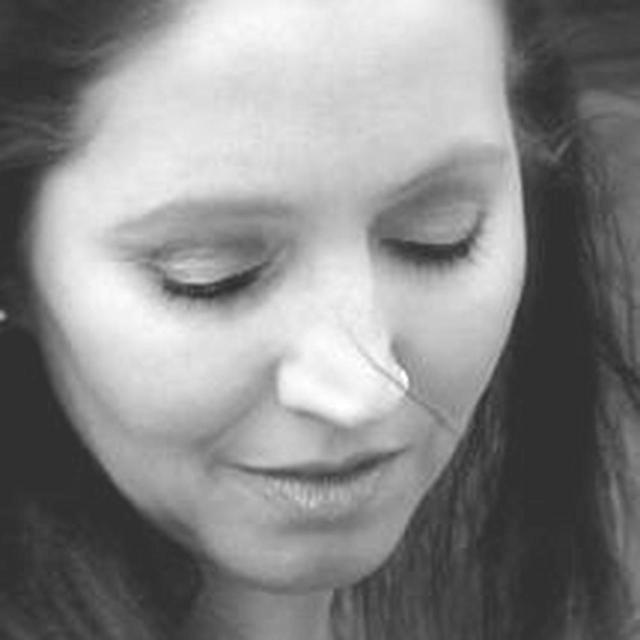real: (31, 4, 532, 593), (102, 146, 504, 314)
